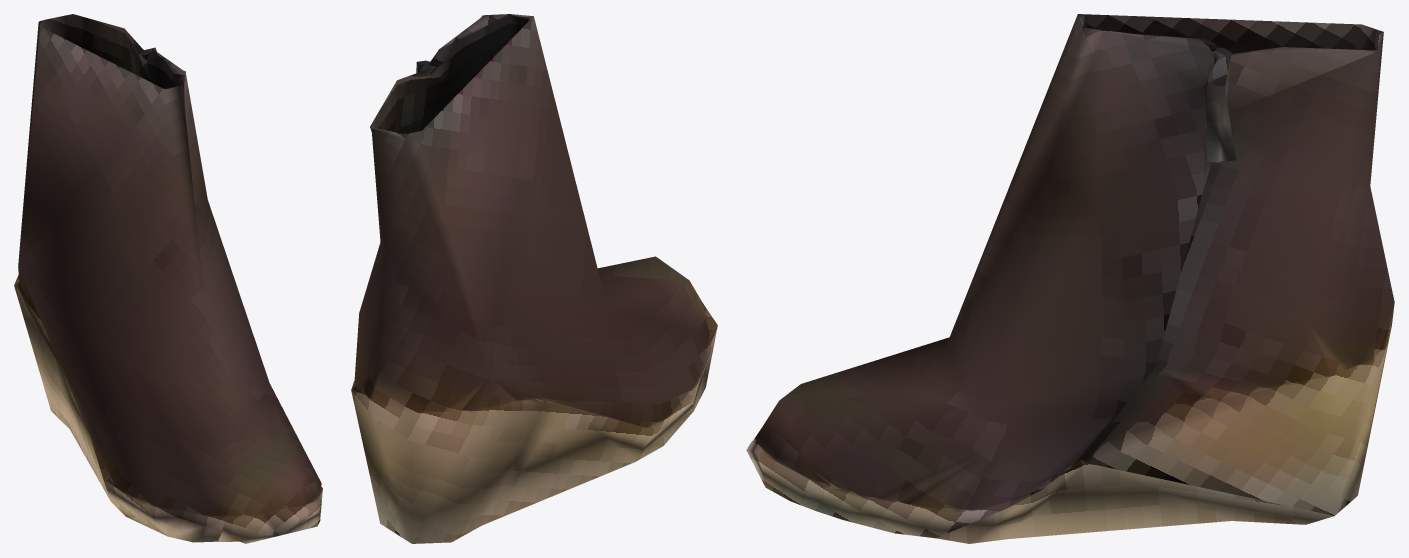
Rendered from Rayna_BootieWP-low.glb.
The picture shows the model from 3 angles, left to right: view 1: azimuth 30°, elevation 25°; view 2: azimuth 150°, elevation 25°; view 3: azimuth 270°, elevation 25°; orthographic projection. The views are drawn at different scales.
Visible parts, largest first — view 1: Rayna_BootieWP; view 2: Rayna_BootieWP; view 3: Rayna_BootieWP.
Boxes of the visible parts, x1,y1,x2,y2 form: Rayna_BootieWP: [14, 14, 322, 543]; Rayna_BootieWP: [351, 14, 717, 543]; Rayna_BootieWP: [746, 14, 1394, 543].
Size of the model in its own units: 0.0851 by 0.2003 by 0.2377.
1 material, 1 textured.
